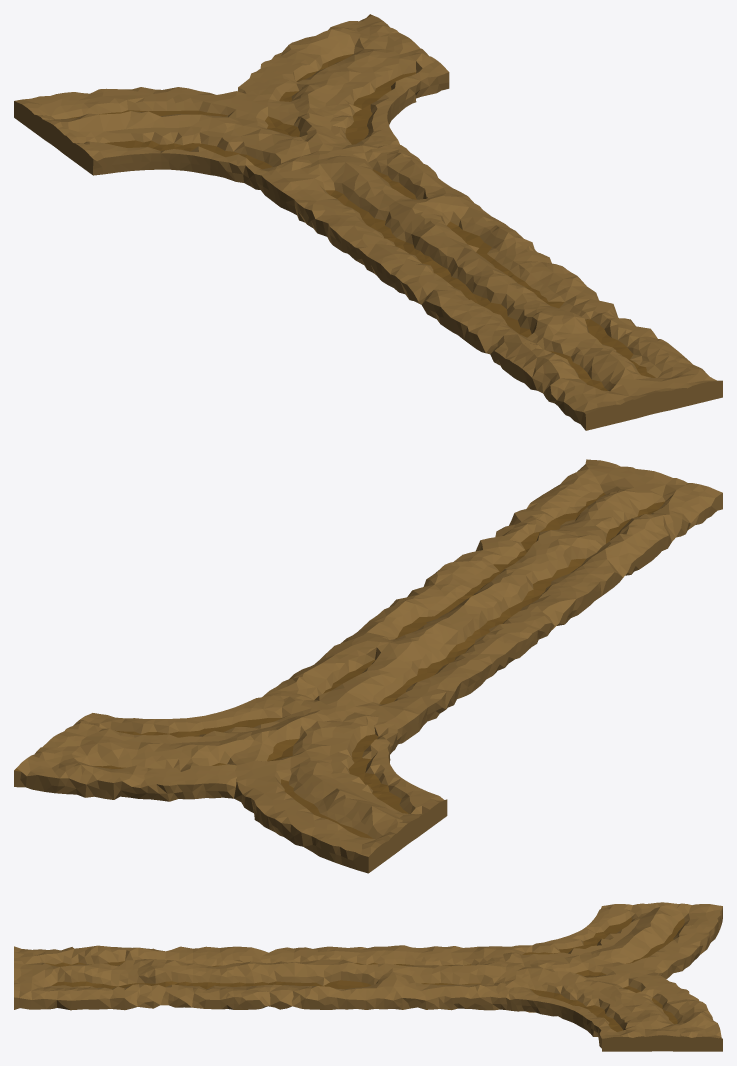
Rendered from Road_Turn_02 1.fbx.
3 renders of one model, top to bottom at view 1: azimuth 30°, elevation 25°; view 2: azimuth 150°, elevation 25°; view 3: azimuth 270°, elevation 25°, orthographic. The views are drawn at different scales.
Visible parts, largest first — view 1: Road_Turn_02; view 2: Road_Turn_02; view 3: Road_Turn_02.
Boxes of the visible parts, box(x1,y1,x2,y2) form: Road_Turn_02: box(14, 14, 722, 430); Road_Turn_02: box(14, 459, 722, 873); Road_Turn_02: box(14, 902, 722, 1051).
Size of the model in its own units: 516 by 41.01 by 1164.
